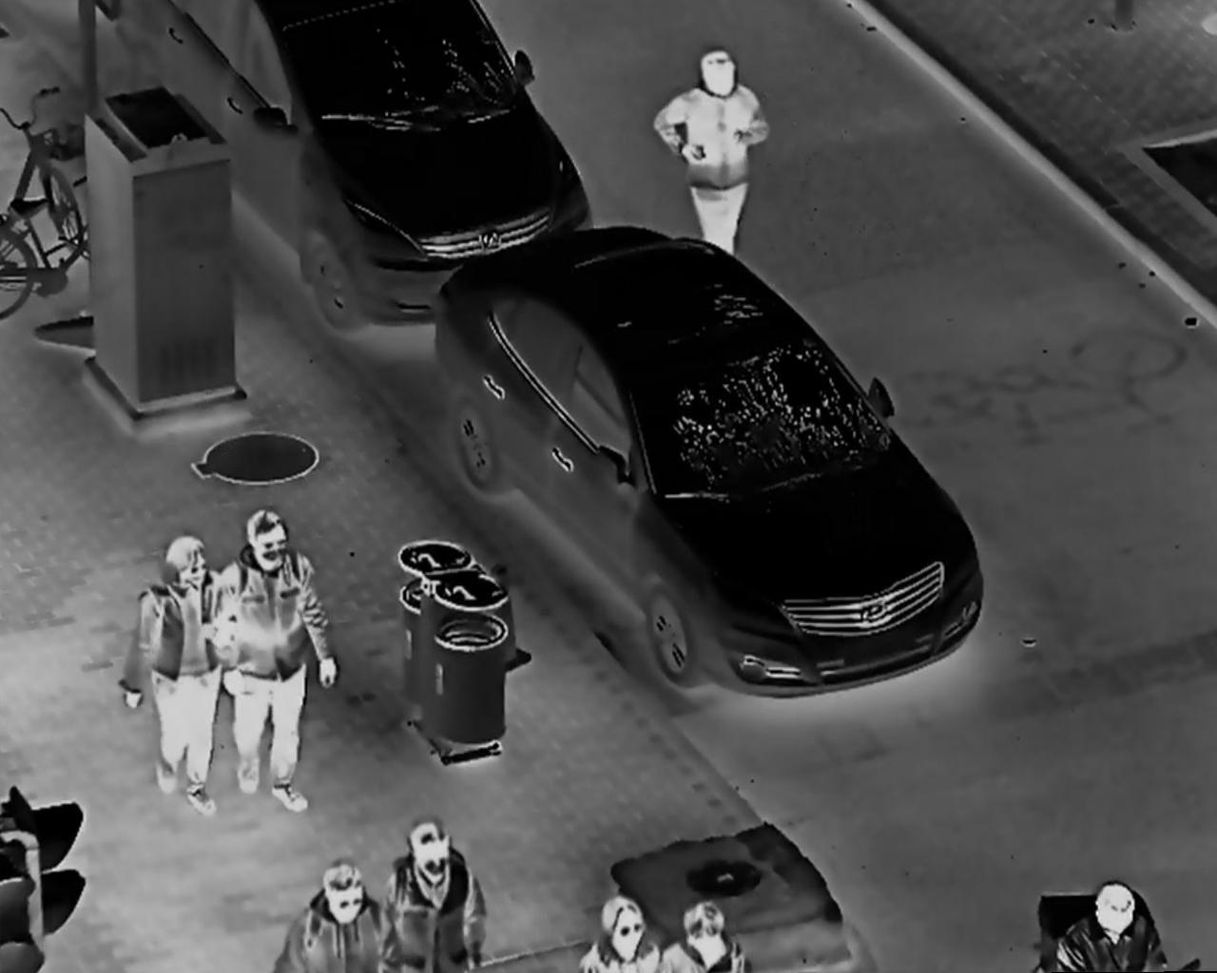person: (220, 504, 341, 815), (118, 525, 240, 822), (647, 42, 768, 268), (377, 816, 493, 973), (265, 860, 403, 973), (1059, 877, 1157, 973), (574, 894, 666, 973), (662, 904, 750, 973)
